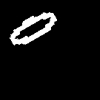chain: (10, 12, 56, 44)
